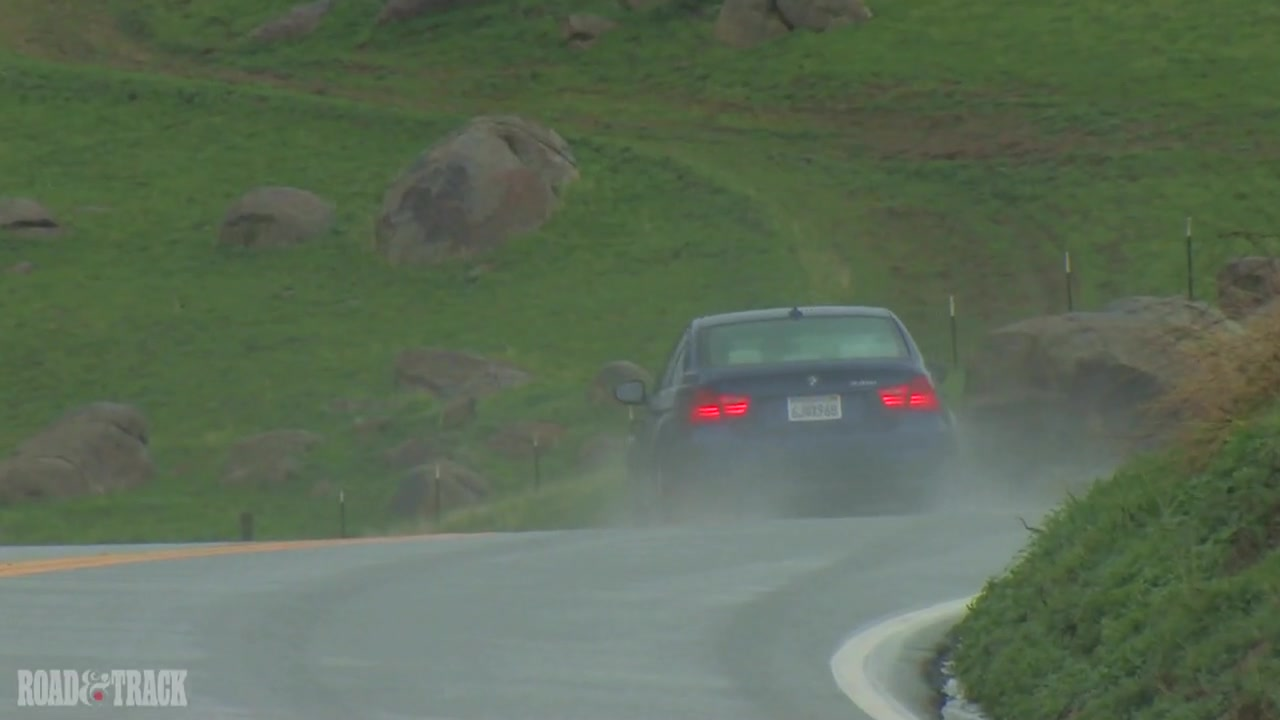car: (609, 301, 966, 527)
